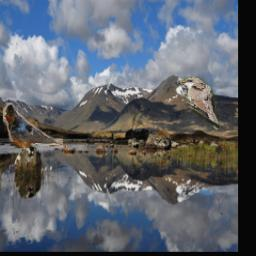Cuckoo: (178, 77, 219, 131)
Swallow: (3, 103, 63, 148)
